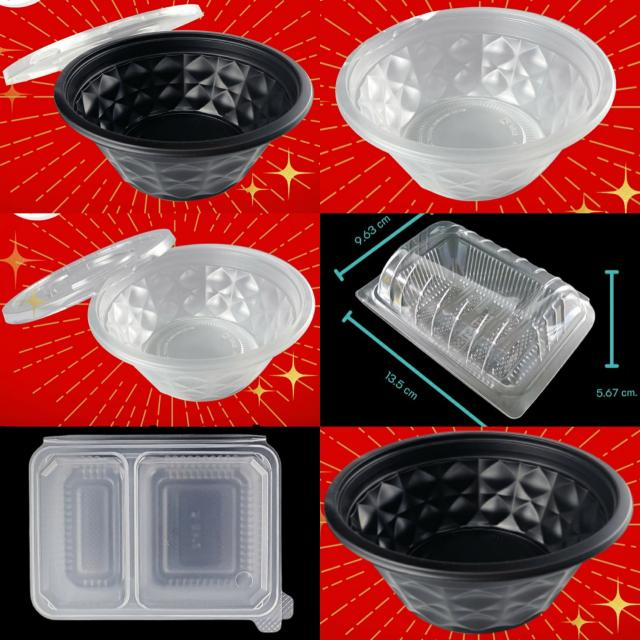Single-Use-Plastic: (324, 431, 633, 632), (335, 8, 615, 199), (29, 435, 293, 632), (357, 221, 594, 419), (54, 31, 313, 200), (88, 244, 314, 401), (3, 229, 175, 324), (4, 4, 203, 85)
